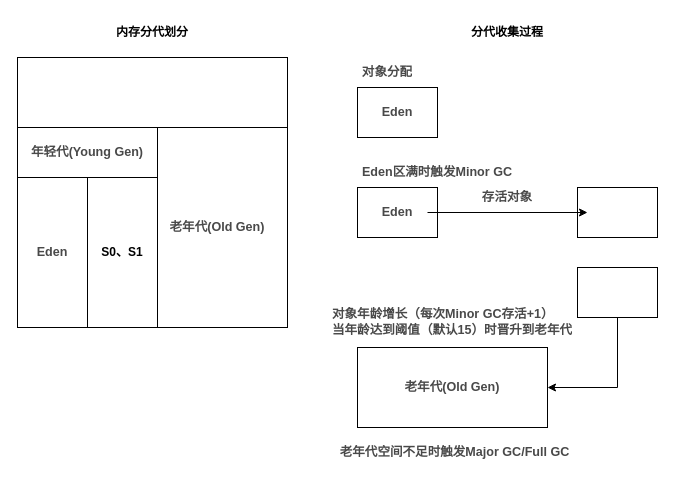
Some shapes in this 675 by 484 pixel diagram are drawn without their labels. Each missing label, with the centre of its shape:
S0: point 617,212
S1: point 617,292
堆(Heap): point 152,92
